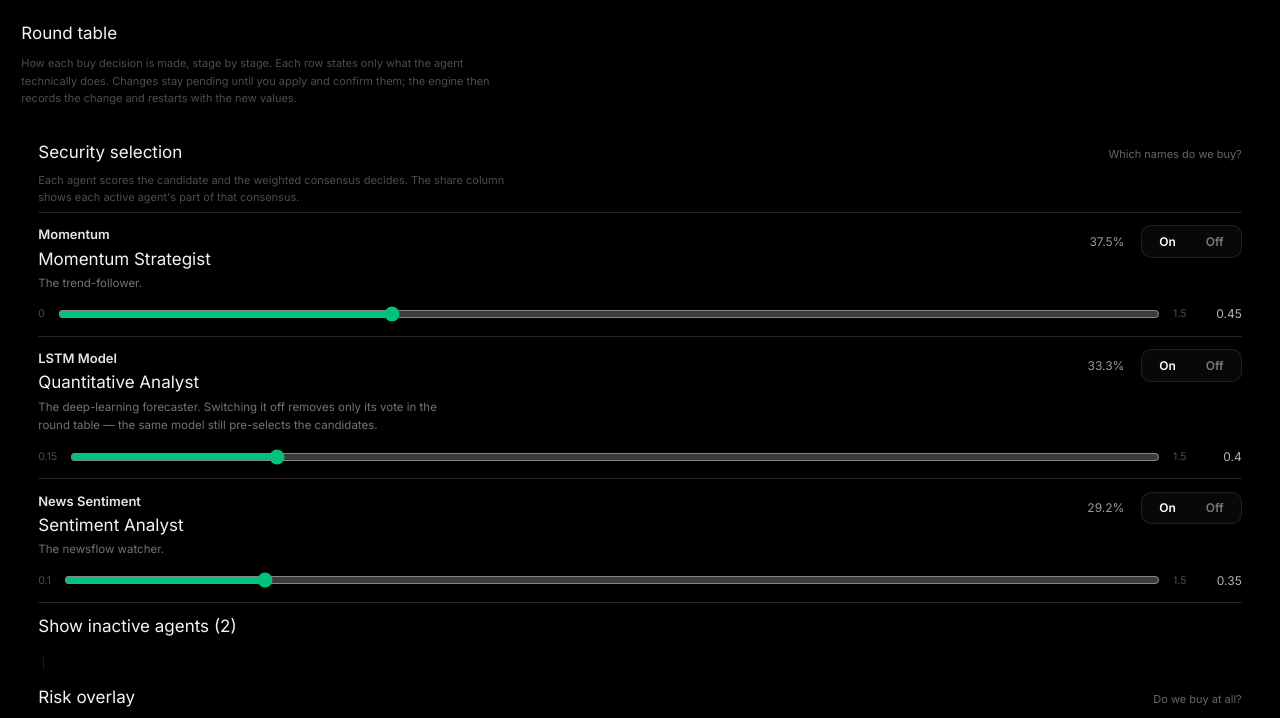
Test: Round table card (UXC-1 S4) › T15: a failed WORM record on the real path persists and restarts NOTHING
The image size is (1280, 718).
Set the slider named "MomentumAgent weight" to "0.6" at (500, 314), box x1=58 y1=306 x2=1160 y2=322
(page scrolled)
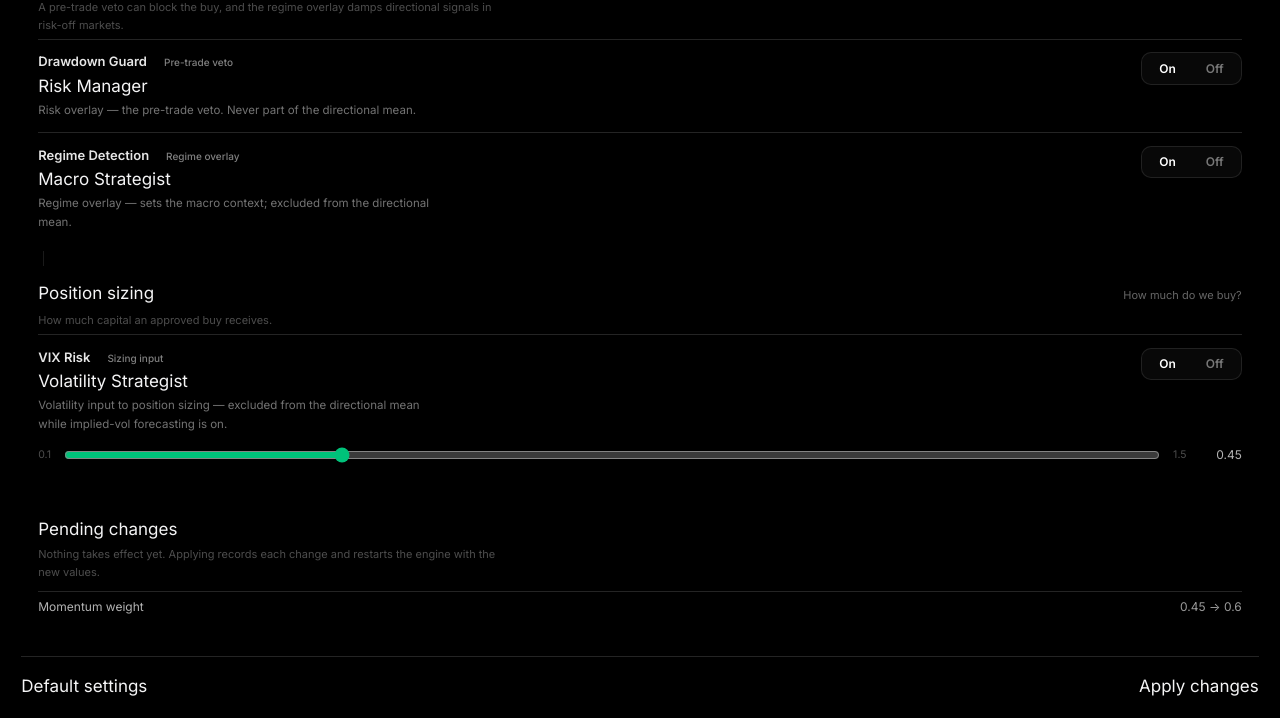
Click the button "Apply changes".
click(1199, 686)  # box x1=1139 y1=674 x2=1259 y2=699
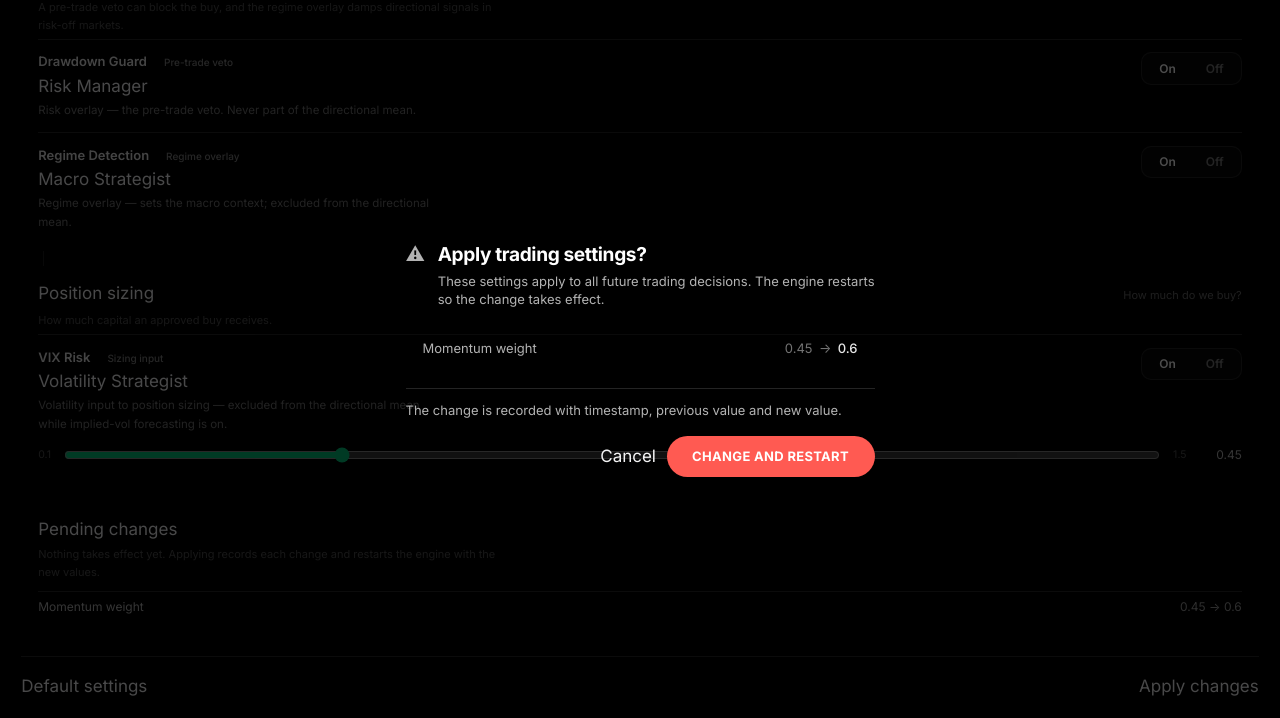
Click the button "Change and restart".
click(771, 457)  # box x1=667 y1=436 x2=874 y2=477
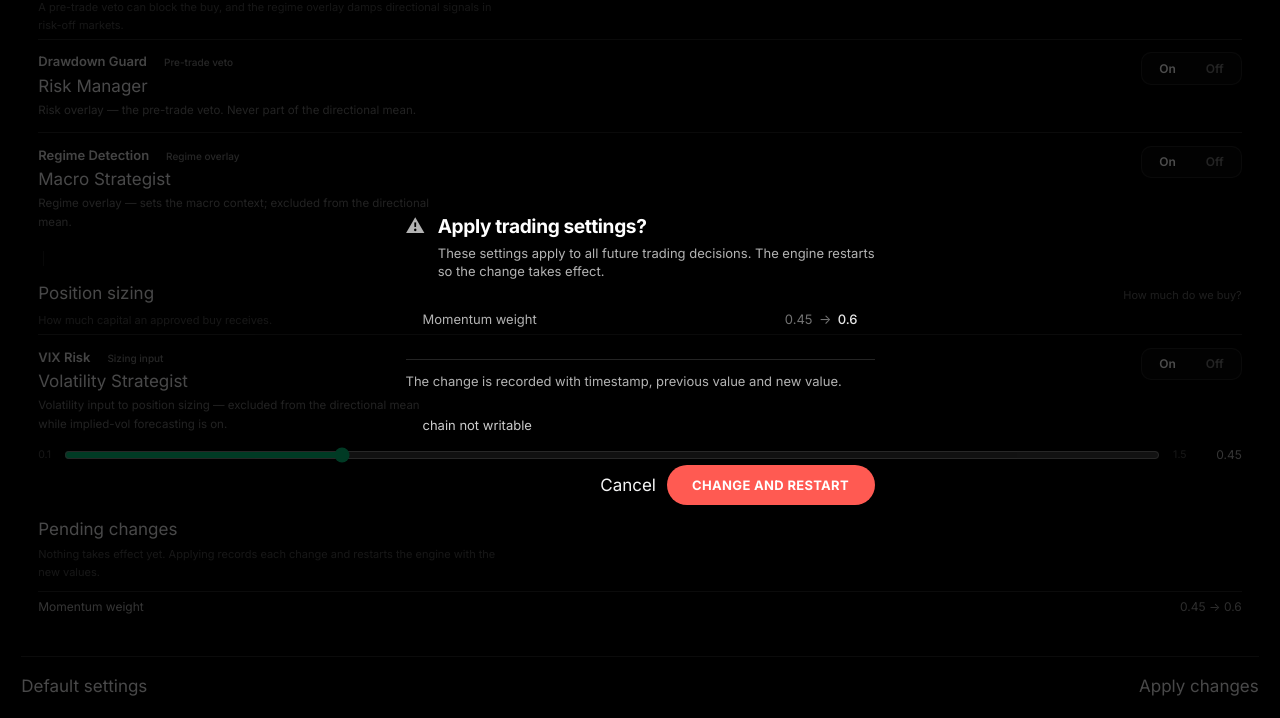
Expected: the message "chain not writable" is shown, x1=422 y1=417 x2=532 y2=433
